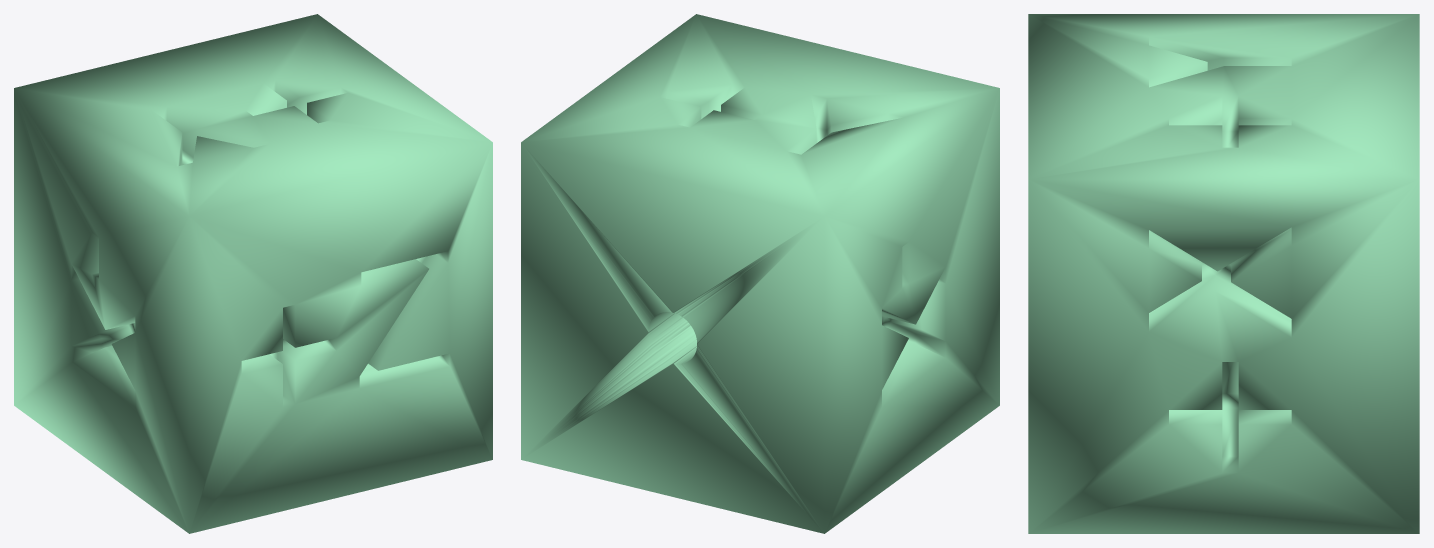
The model's file is rig_block.glb.
3 renders of one model, left to right at view 1: azimuth 30°, elevation 25°; view 2: azimuth 150°, elevation 25°; view 3: azimuth 270°, elevation 25°, orthographic. The views are drawn at different scales.
Visible parts, largest first — view 1: rig_block; view 2: rig_block; view 3: rig_block.
Part boxes in pixels (x1,y1,x2,y2): rig_block: (14, 14, 492, 533); rig_block: (521, 14, 999, 533); rig_block: (1028, 14, 1419, 533).
Size of the model in its own units: 50 by 50 by 50.
